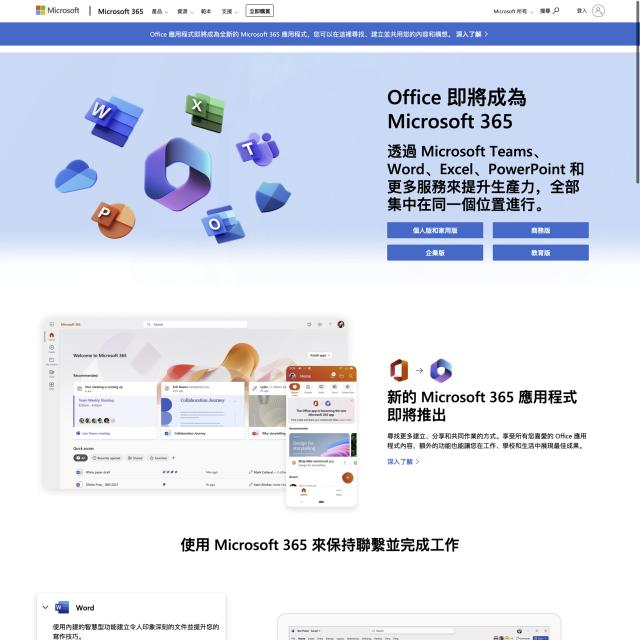CheckBox: (492, 244, 588, 261), (387, 244, 483, 261), (387, 222, 483, 238), (493, 222, 588, 238), (385, 456, 422, 468)
ProgressBar: (0, 22, 636, 46)
alert: (150, 7, 170, 17), (222, 7, 238, 16), (177, 8, 194, 16)
bag: (0, 0, 640, 44)
breadcrumbs: (172, 531, 458, 562)
card: (0, 53, 635, 264)
carousel: (592, 4, 605, 17)
content: (35, 84, 312, 258)
copy: (42, 317, 361, 515)
data feed: (412, 226, 458, 236), (494, 7, 527, 17), (424, 248, 446, 259), (529, 226, 551, 235), (530, 249, 552, 258), (250, 7, 272, 15), (200, 8, 214, 15), (576, 7, 588, 15), (221, 8, 233, 15), (176, 8, 188, 15), (151, 8, 163, 15), (539, 8, 551, 15)
date picker: (31, 0, 82, 20)
image: (385, 80, 531, 133)
